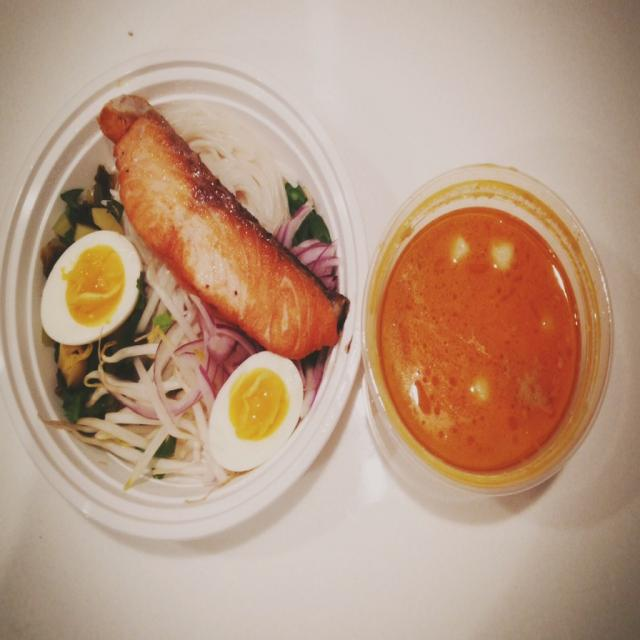Egg: (38, 232, 144, 345), (208, 348, 302, 472)
